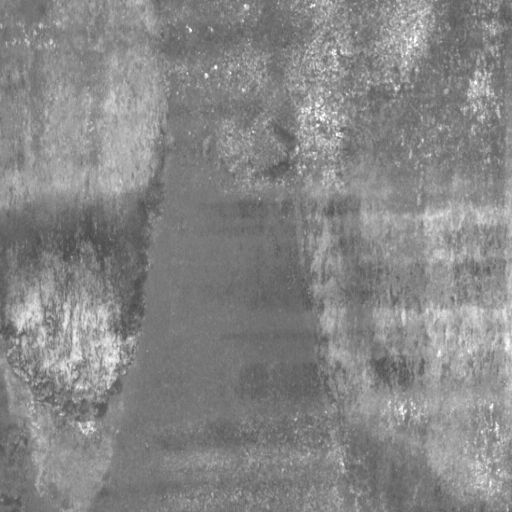qiaopi: (1, 130, 166, 433)
